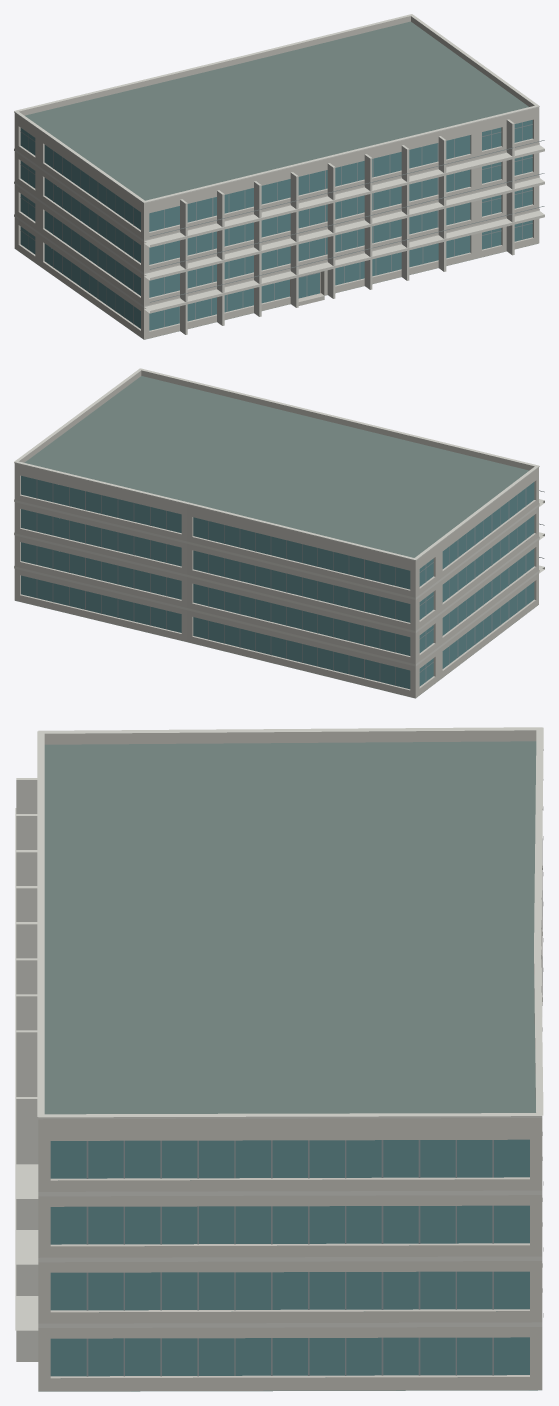
3 renders of one model, top to bottom at view 1: azimuth 30°, elevation 25°; view 2: azimuth 150°, elevation 25°; view 3: azimuth 270°, elevation 25°, orthographic. The views are drawn at different scales.
Parts seen in each view (by area): view 1: four__roof, four__glass, four__trim, four__wall, four__parapet, four__frame; view 2: four__roof, four__glass, four__wall, four__trim, four__parapet, four__frame; view 3: four__roof, four__glass, four__wall, four__trim, four__parapet, four__frame.
Part boxes in pixels (left/top/right/bottom): four__roof: left=15, top=21, right=537, bottom=339; four__glass: left=20, top=120, right=532, bottom=330; four__trim: left=14, top=14, right=544, bottom=334; four__wall: left=14, top=111, right=539, bottom=339; four__parapet: left=14, top=16, right=539, bottom=207; four__frame: left=20, top=122, right=544, bottom=327; four__roof: left=15, top=376, right=537, bottom=698; four__glass: left=21, top=476, right=534, bottom=689; four__wall: left=14, top=467, right=538, bottom=698; four__trim: left=14, top=368, right=544, bottom=666; four__parapet: left=14, top=370, right=538, bottom=565; four__frame: left=36, top=480, right=544, bottom=685; four__roof: left=38, top=741, right=541, bottom=1391; four__glass: left=50, top=1139, right=529, bottom=1376; four__wall: left=38, top=840, right=542, bottom=1391; four__trim: left=15, top=727, right=543, bottom=1361; four__parapet: left=38, top=730, right=542, bottom=1127; four__frame: left=86, top=1140, right=493, bottom=1376.
Size of the model in its own units: 45.71 by 15.4 by 26.17.
